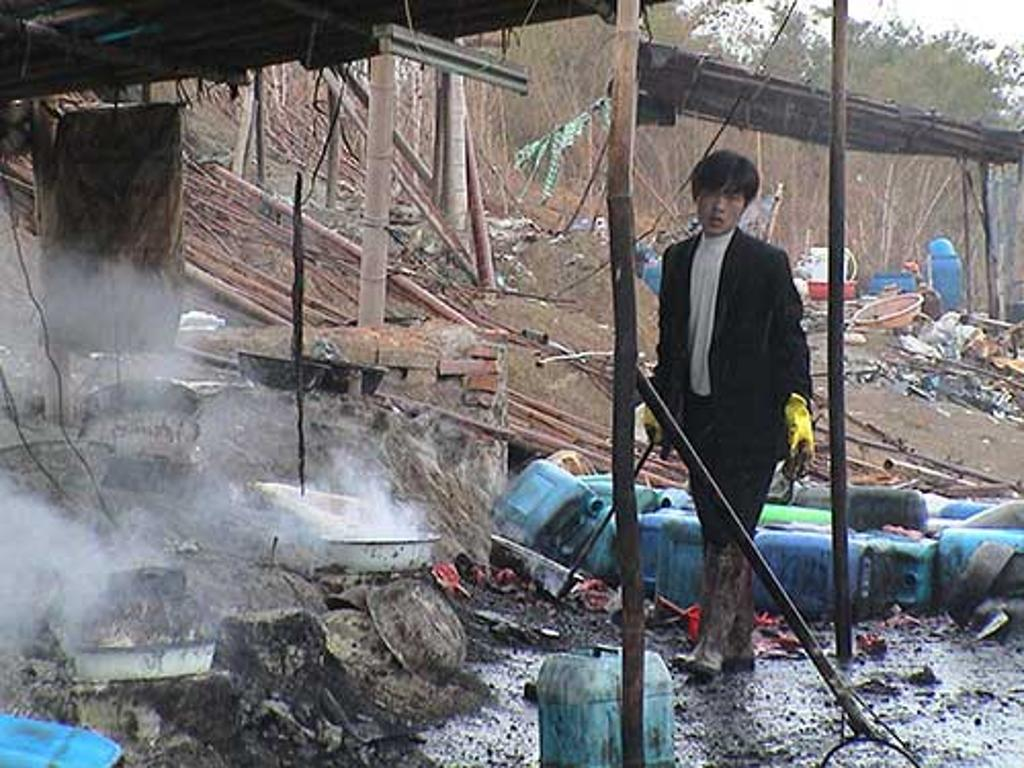face: (697, 182, 744, 234)
